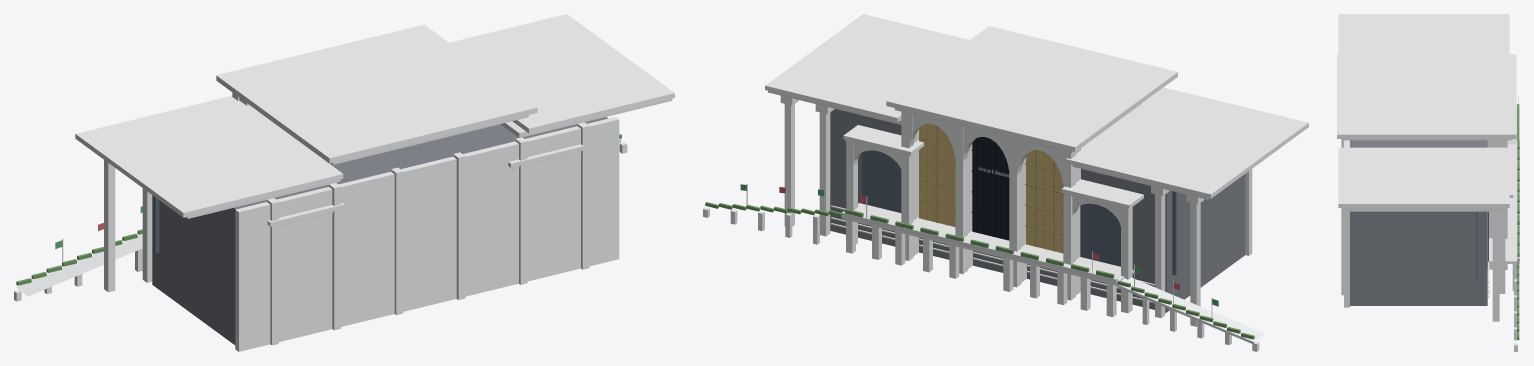
3 views of the same model, side by side, from view 1: azimuth 30°, elevation 25°; view 2: azimuth 150°, elevation 25°; view 3: azimuth 270°, elevation 25° (orthographic). The views are drawn at different scales.
Visible parts, largest first — view 1: VRU_80th_Anniversary_Building; view 2: VRU_80th_Anniversary_Building; view 3: VRU_80th_Anniversary_Building.
Boxes of the visible parts, x1,y1,x2,y2 form: VRU_80th_Anniversary_Building: (14,14,674,351); VRU_80th_Anniversary_Building: (703,14,1308,351); VRU_80th_Anniversary_Building: (1337,14,1519,351).
Bounding box in the file's own units: 78.64 × 21.65 × 25.75.
Materials: 11 (1 with a texture image).
